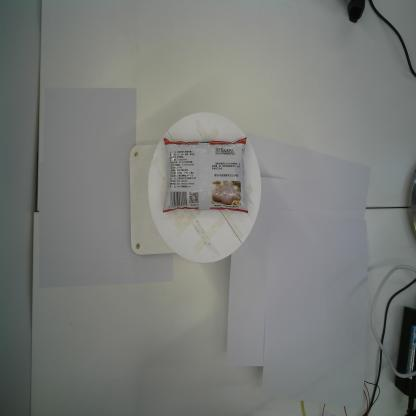Seasoner: (162, 137, 249, 214)
